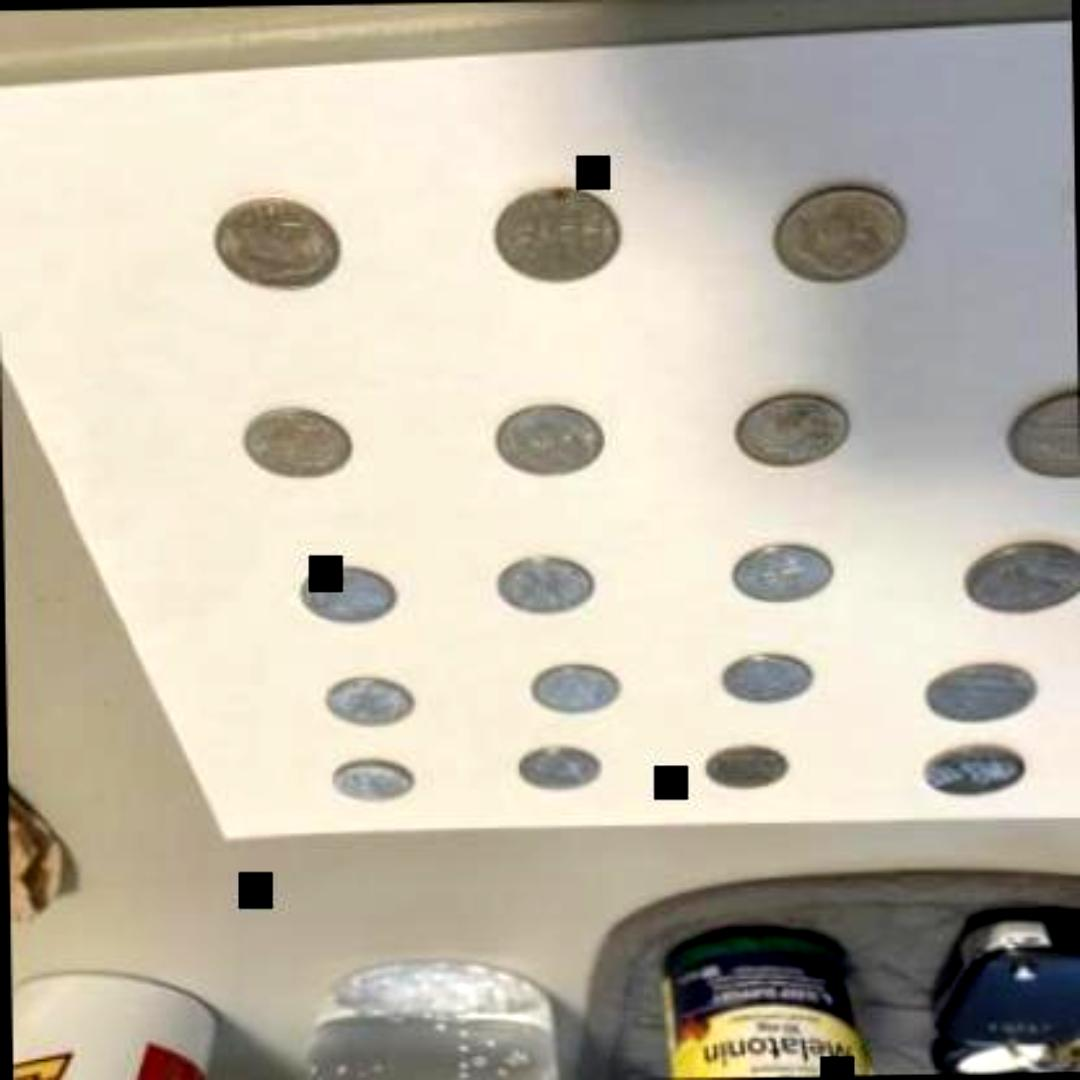Dime: (765, 176, 907, 288), (488, 180, 620, 284), (205, 188, 337, 291), (232, 401, 360, 481), (734, 386, 850, 470), (487, 399, 603, 479), (728, 535, 830, 605), (297, 563, 400, 627), (490, 551, 592, 615), (326, 748, 416, 812), (718, 648, 814, 708), (523, 658, 619, 716), (513, 736, 603, 796), (702, 733, 790, 792), (319, 671, 415, 725)
Nickel: (996, 369, 1080, 480), (964, 538, 1080, 618), (913, 653, 1035, 720), (915, 738, 1034, 796)
